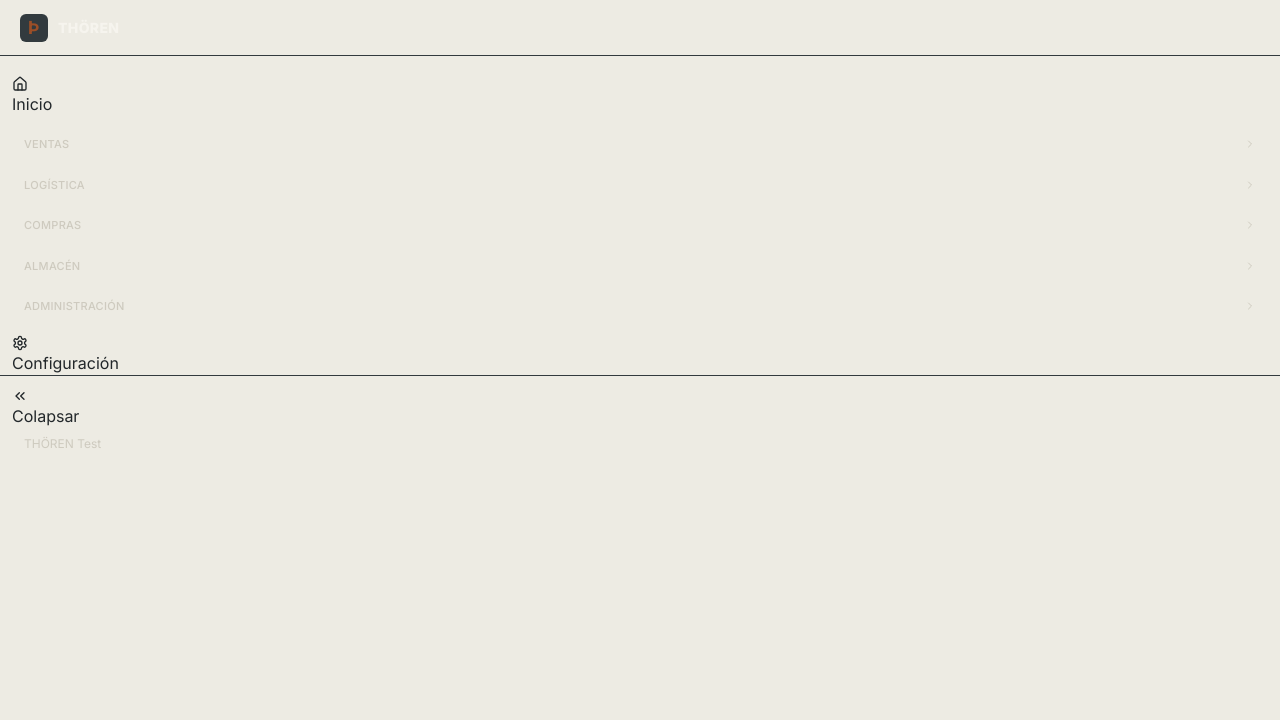
Test: Sidebar — menú desplegable por departamento › cada departamento se abre y cierra de forma independiente con clic en su encabezado
This screenshot has width=1280, height=720.
Expected: the link "Clientes" is not shown
Click the button "Ventas" at (47, 144), box [12,132,1268,156]
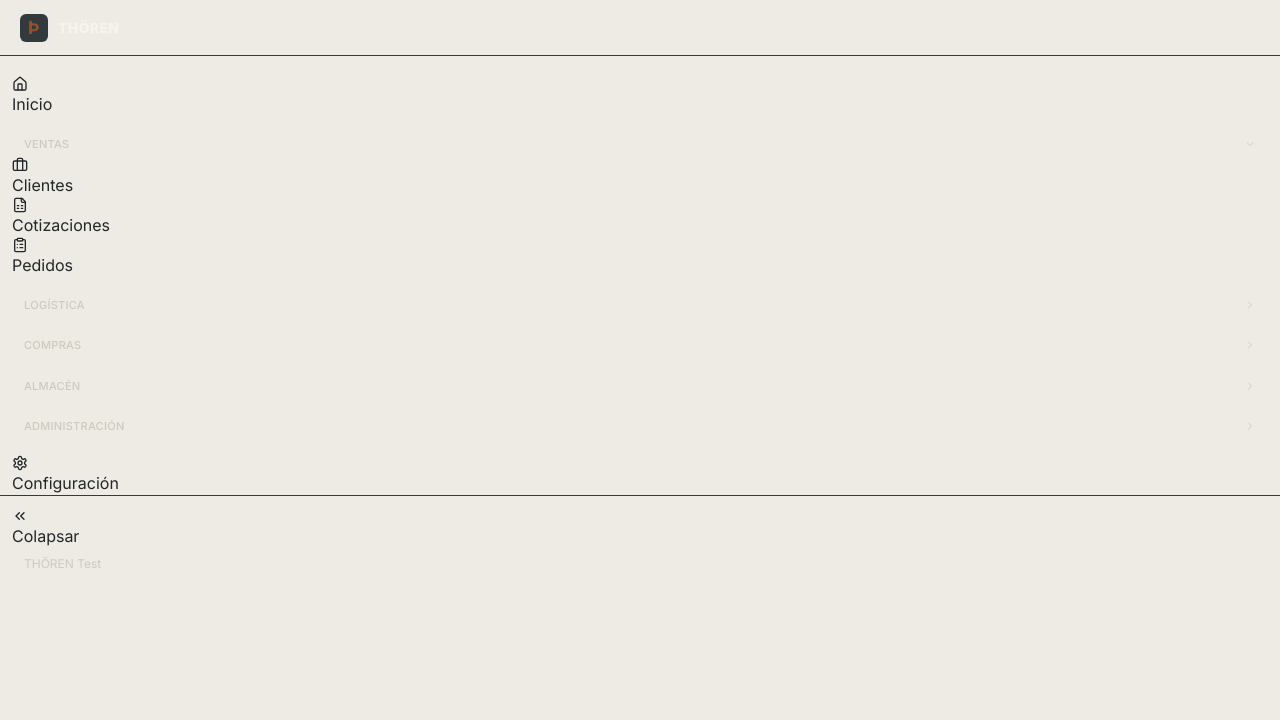
Now the link "Clientes" is shown, box [12,156,73,194]
# Cerrar Ventas de nuevo.
Click the button "Ventas" at (47, 144), box [12,132,1268,156]
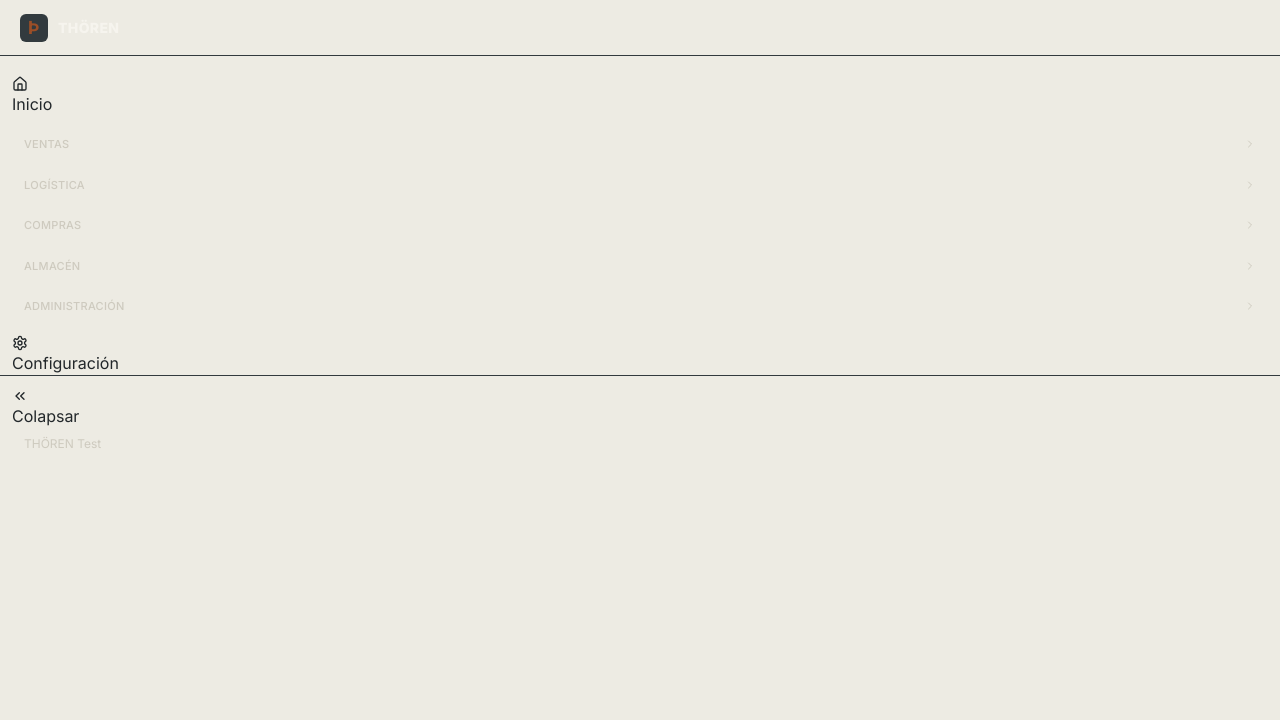
Now the link "Clientes" is gone
